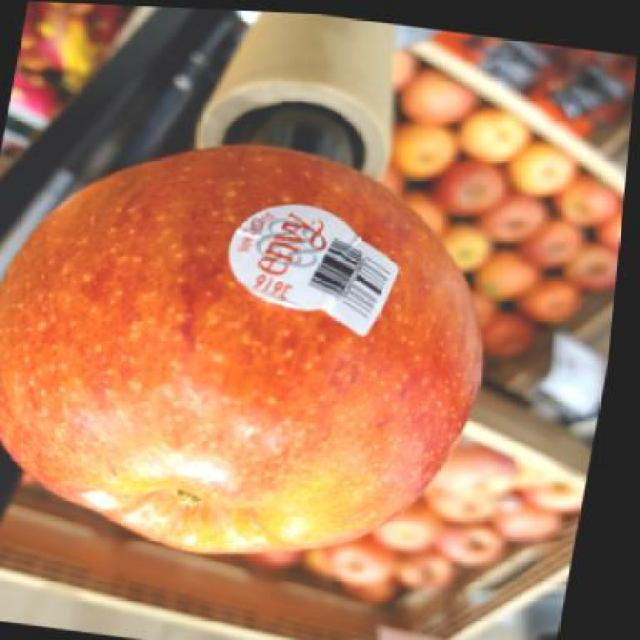Fresh Apple: (3, 143, 482, 563)
